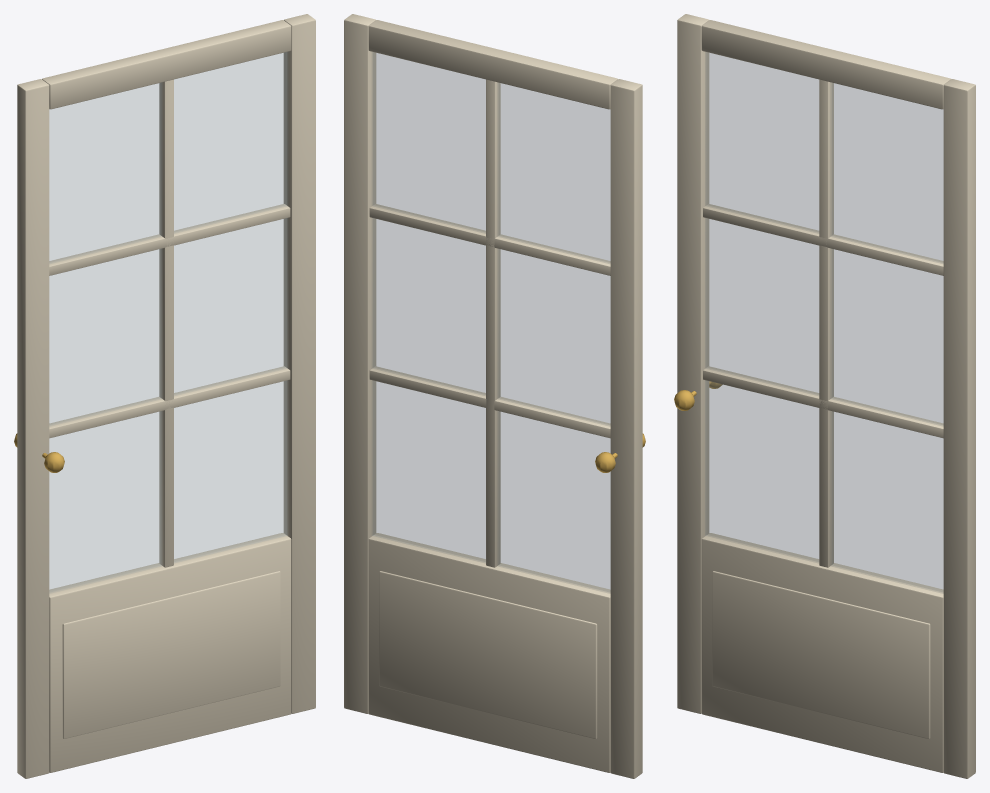
The model's file is mae_glazed_door.glb.
3 views of the same model, side by side, from view 1: azimuth 30°, elevation 25°; view 2: azimuth 150°, elevation 25°; view 3: azimuth 330°, elevation 25° (orthographic).
Visible parts, largest first — view 1: mae_glazed_door; view 2: mae_glazed_door; view 3: mae_glazed_door.
Boxes of the visible parts, left/top/right/bottom form: mae_glazed_door: left=14, top=14, right=315, bottom=778; mae_glazed_door: left=344, top=14, right=645, bottom=778; mae_glazed_door: left=674, top=14, right=975, bottom=778.
Bounding box in the file's own units: 0.95 × 2.15 × 0.23.
